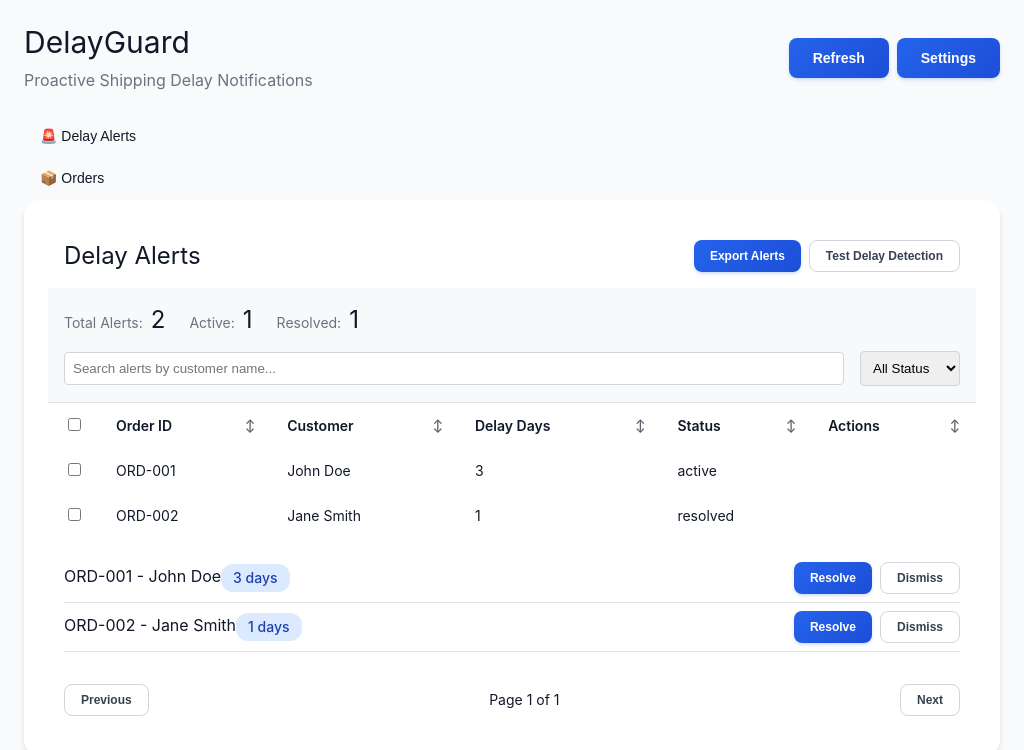
Test: MinimalApp › should handle alert actions
Expected: the heading "DelayGuard" is shown, [24, 24, 190, 60]
Note: Select an alert first
Click the 1st checkbox with test id "checkbox".
click(74, 470)  # box [68, 463, 81, 476]
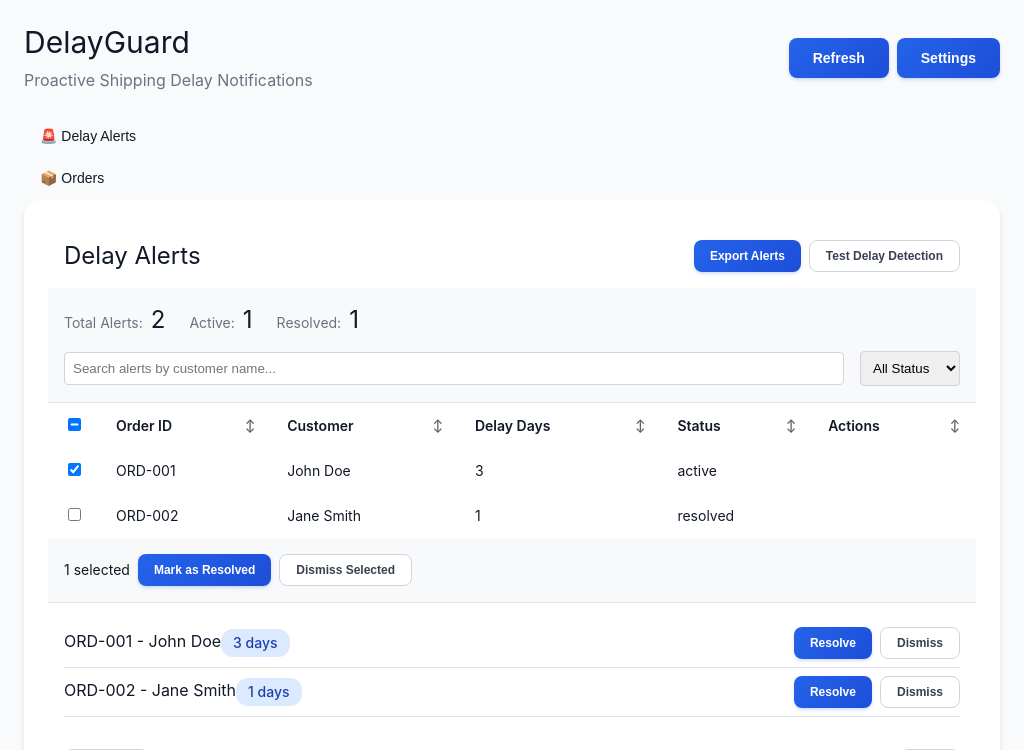
Expected: the text "Mark as Resolved" is shown, [154, 563, 255, 577]
Note: Mark alert as resolved
Click the button "Mark as Resolved".
click(205, 570)  # box [138, 554, 271, 586]
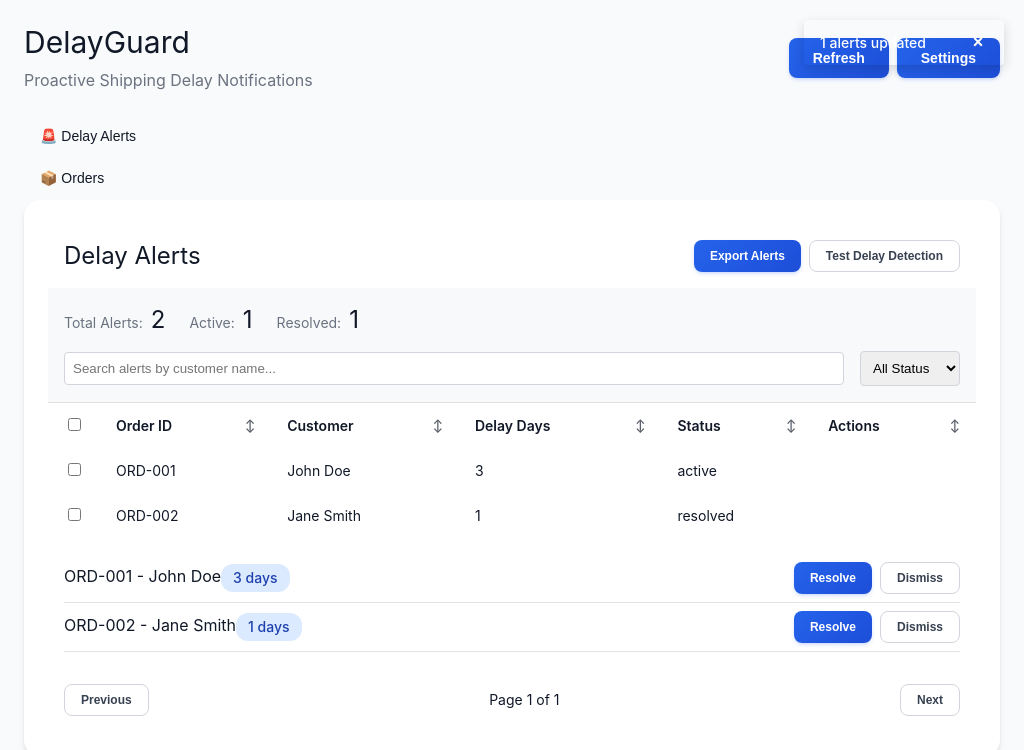
Expected: the text "1 alerts updated" is shown, [820, 34, 926, 51]
